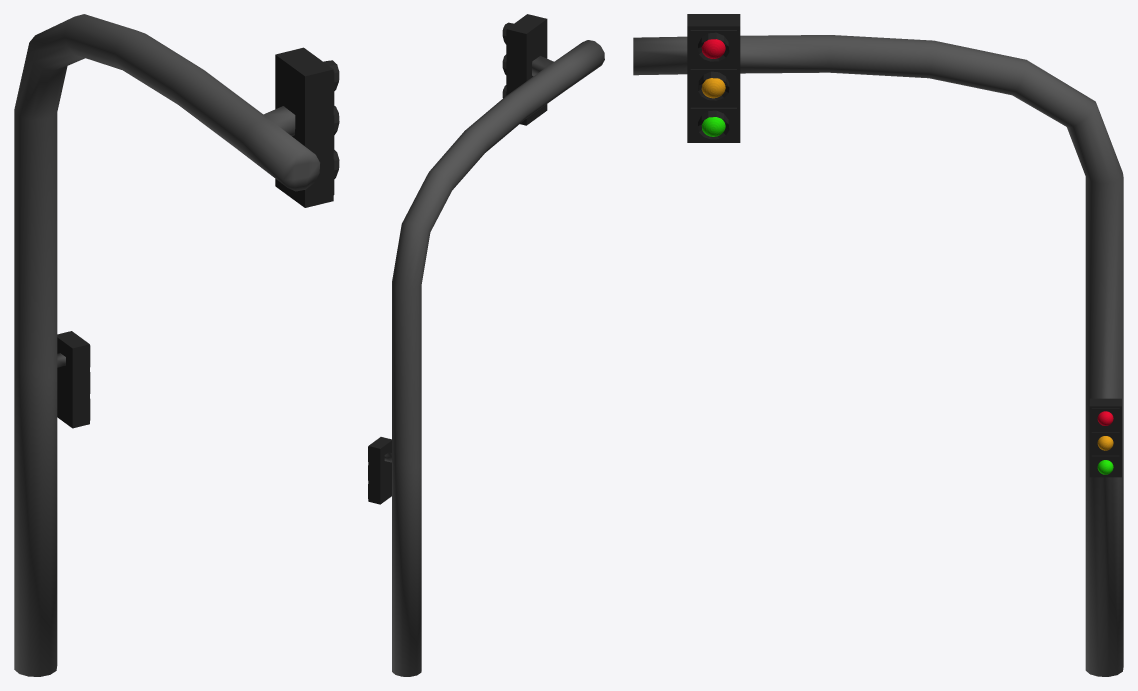
Rendered from Semaforo.fbx.
3 renders of one model, left to right at view 1: azimuth 30°, elevation 25°; view 2: azimuth 150°, elevation 25°; view 3: azimuth 270°, elevation 25°, orthographic. The views are drawn at different scales.
Visible parts, largest first — view 1: Cube.001, Cube.002, Cube.003; view 2: Cube.001, Cube.002, Cube.003; view 3: Cube.001, Cube.002, Cube.003.
Part boxes in pixels (bbox=[...]): Cube.001: bbox=[14, 14, 319, 676]; Cube.002: bbox=[275, 47, 339, 207]; Cube.003: bbox=[57, 331, 90, 428]; Cube.001: bbox=[384, 40, 604, 676]; Cube.002: bbox=[502, 14, 547, 125]; Cube.003: bbox=[368, 437, 391, 504]; Cube.001: bbox=[633, 35, 1123, 676]; Cube.002: bbox=[687, 14, 740, 142]; Cube.003: bbox=[1089, 398, 1121, 477].
Bounding box in the file's own units: 54.92 × 411 × 273.
